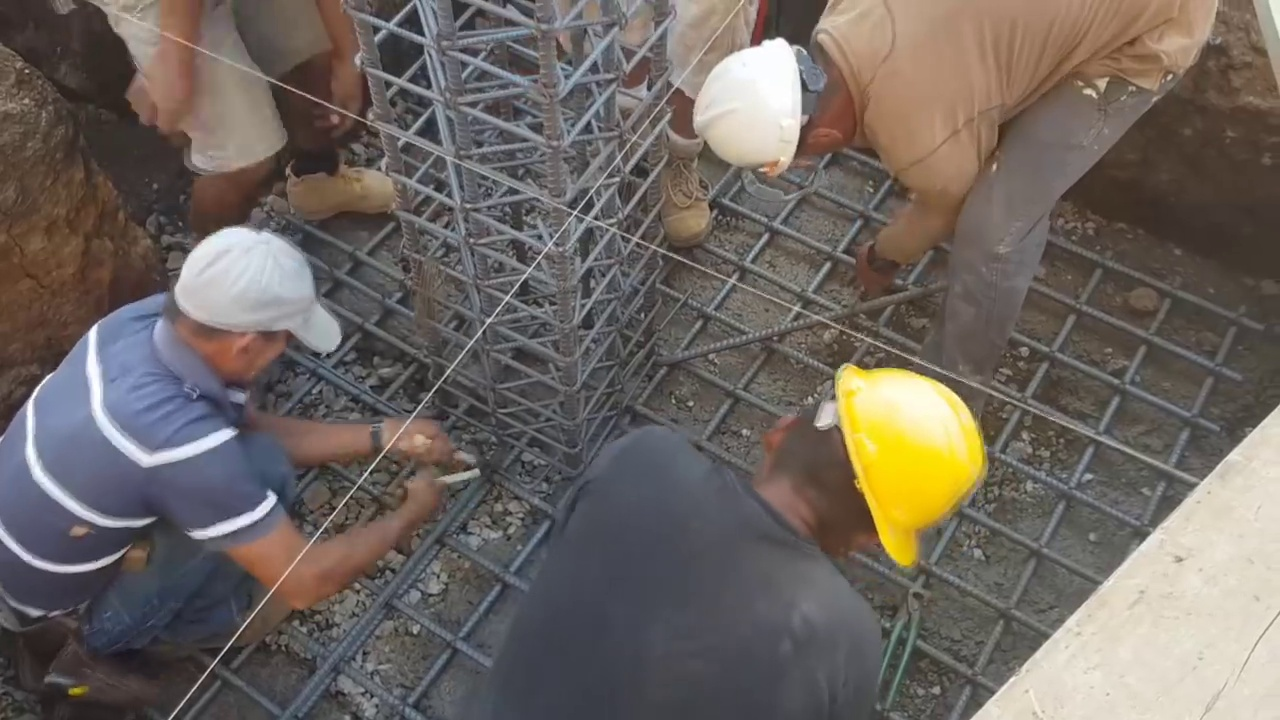helmet: (793, 374, 977, 590), (692, 38, 825, 173)
helmet-off: (158, 224, 334, 386)
helmet-on: (756, 364, 981, 592), (688, 38, 868, 177)
person: (0, 222, 456, 710), (688, 0, 1215, 401), (490, 367, 982, 720), (74, 0, 398, 234), (547, 4, 715, 251)
